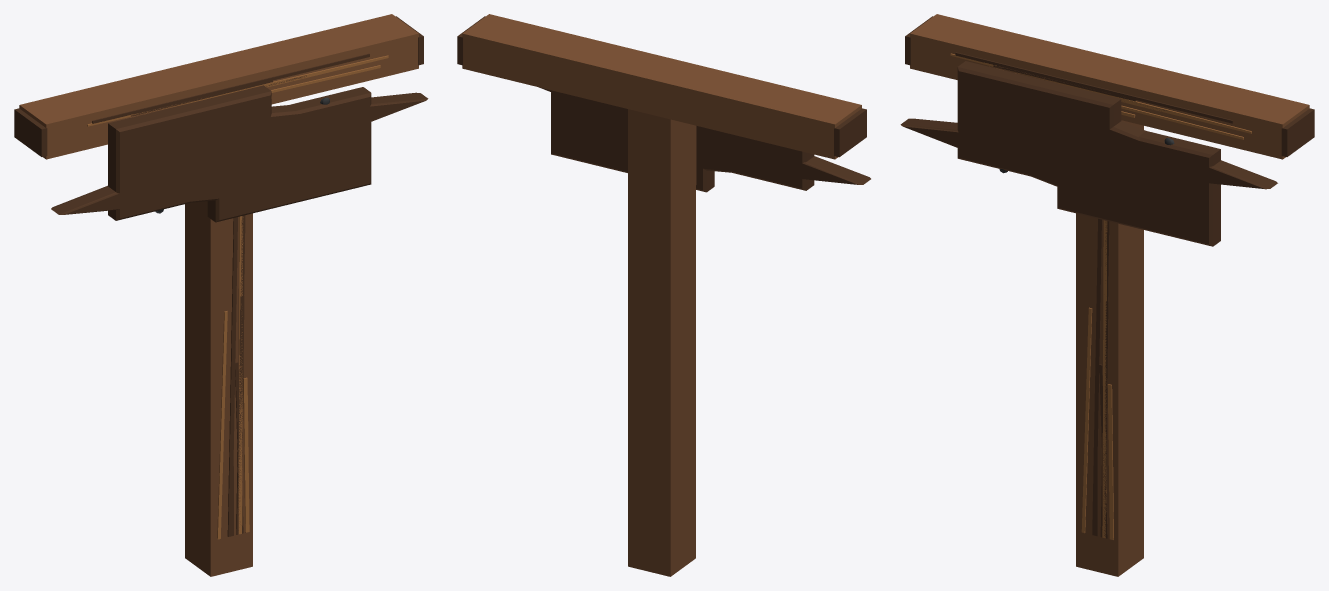
File: signpost.glb
3 views of the same model, side by side, from view 1: azimuth 30°, elevation 25°; view 2: azimuth 150°, elevation 25°; view 3: azimuth 330°, elevation 25° (orthographic).
Visible parts, largest first — view 1: MainPost, RightArrowSign_Frame, TopCrossbeam, LeftArrowSign_Frame, PostGrain_5, PostGrain_0, BeamGrain_3, LeftEndGrain, PostGrain_6, PostGrain_2, PostGrain_3, BeamGrain_6 (+1 smaller); view 2: MainPost, TopCrossbeam, LeftArrowSign_Frame, RightArrowSign_Frame, LeftEndGrain; view 3: RightArrowSign_Frame, MainPost, TopCrossbeam, LeftArrowSign_Frame, PostGrain_5, PostGrain_0, BeamGrain_3, RightEndGrain, PostGrain_6, PostGrain_3, PostGrain_2, BeamGrain_6.
Boxes of the visible parts, left/top/right/bottom form: MainPost: left=185, top=201, right=252, bottom=576; RightArrowSign_Frame: left=108, top=85, right=428, bottom=220; TopCrossbeam: left=19, top=14, right=418, bottom=159; LeftArrowSign_Frame: left=51, top=87, right=371, bottom=222; PostGrain_5: left=227, top=217, right=237, bottom=536; PostGrain_0: left=238, top=216, right=243, bottom=534; BeamGrain_3: left=92, top=53, right=369, bottom=123; LeftEndGrain: left=14, top=108, right=47, bottom=156; PostGrain_6: left=217, top=311, right=227, bottom=539; PostGrain_2: left=237, top=295, right=244, bottom=534; PostGrain_3: left=243, top=377, right=249, bottom=532; BeamGrain_6: left=87, top=56, right=383, bottom=126; MainPost: left=628, top=109, right=695, bottom=576; TopCrossbeam: left=462, top=14, right=861, bottom=159; LeftArrowSign_Frame: left=551, top=90, right=870, bottom=192; RightArrowSign_Frame: left=539, top=87, right=814, bottom=190; LeftEndGrain: left=834, top=108, right=866, bottom=157; RightArrowSign_Frame: left=957, top=61, right=1277, bottom=194; MainPost: left=1076, top=120, right=1143, bottom=576; TopCrossbeam: left=910, top=14, right=1309, bottom=159; LeftArrowSign_Frame: left=900, top=118, right=1220, bottom=246; PostGrain_5: left=1092, top=219, right=1102, bottom=535; PostGrain_0: left=1102, top=220, right=1107, bottom=538; BeamGrain_3: left=955, top=52, right=1233, bottom=123; RightEndGrain: left=1281, top=108, right=1314, bottom=156; PostGrain_6: left=1081, top=307, right=1092, bottom=533; PostGrain_3: left=1107, top=384, right=1113, bottom=540; PostGrain_2: left=1101, top=301, right=1108, bottom=537; BeamGrain_6: left=950, top=53, right=1245, bottom=131.
Size of the model in its own units: 3.87 by 4.78 by 0.695.
